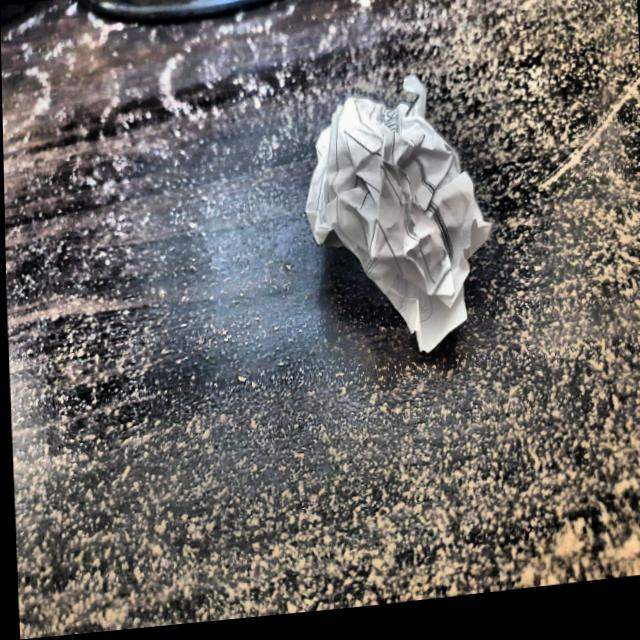Paper: (295, 58, 504, 363)
